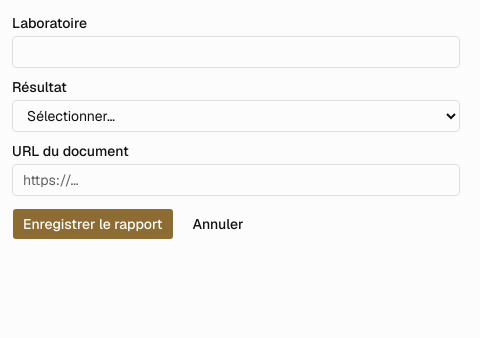
Test case: RapportForm › bloque une soumission invalide et n'appelle pas l'API
The width and height of the screenshot is (480, 338).
Click the button "Enregistrer le rapport": [93, 224] box x1=12 y1=208 x2=174 y2=240
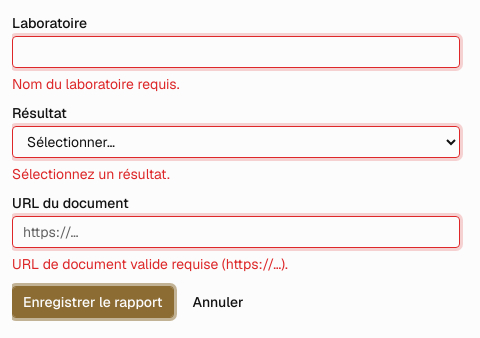
Expected: the message "Nom du laboratoire requis." is shown, x1=12 y1=75 x2=180 y2=93
